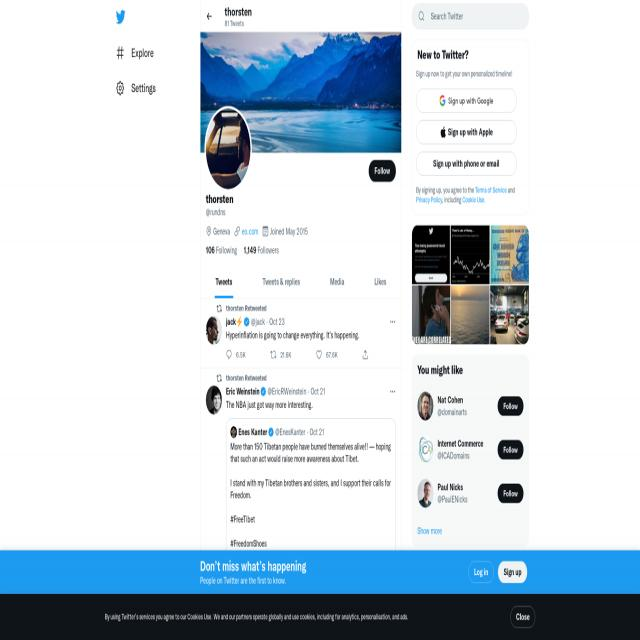button: (204, 108, 251, 190), (415, 120, 517, 144), (416, 90, 516, 114), (416, 152, 516, 176), (490, 284, 529, 345), (451, 225, 490, 285), (451, 284, 490, 344), (490, 225, 529, 284), (412, 225, 451, 284), (412, 285, 451, 344), (247, 266, 315, 298), (111, 72, 166, 108), (110, 36, 167, 70), (200, 266, 248, 298), (315, 266, 359, 298), (359, 266, 401, 298), (368, 159, 396, 182), (511, 604, 536, 629), (498, 562, 527, 583), (496, 396, 524, 416), (468, 562, 494, 583), (497, 483, 524, 503), (498, 440, 524, 460), (112, 8, 129, 26), (419, 10, 426, 22), (243, 316, 250, 328), (389, 316, 396, 328), (389, 386, 396, 398), (262, 226, 269, 237), (206, 10, 212, 22), (236, 316, 242, 328), (226, 349, 232, 361), (270, 349, 276, 361), (316, 349, 322, 361), (362, 349, 368, 361), (260, 386, 266, 398), (206, 226, 212, 237), (234, 226, 240, 237), (268, 427, 274, 438), (216, 304, 222, 314), (216, 373, 222, 383)
field: (412, 3, 529, 29)
